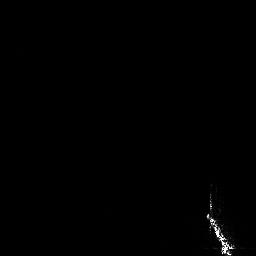ship: (205, 185, 244, 256)
